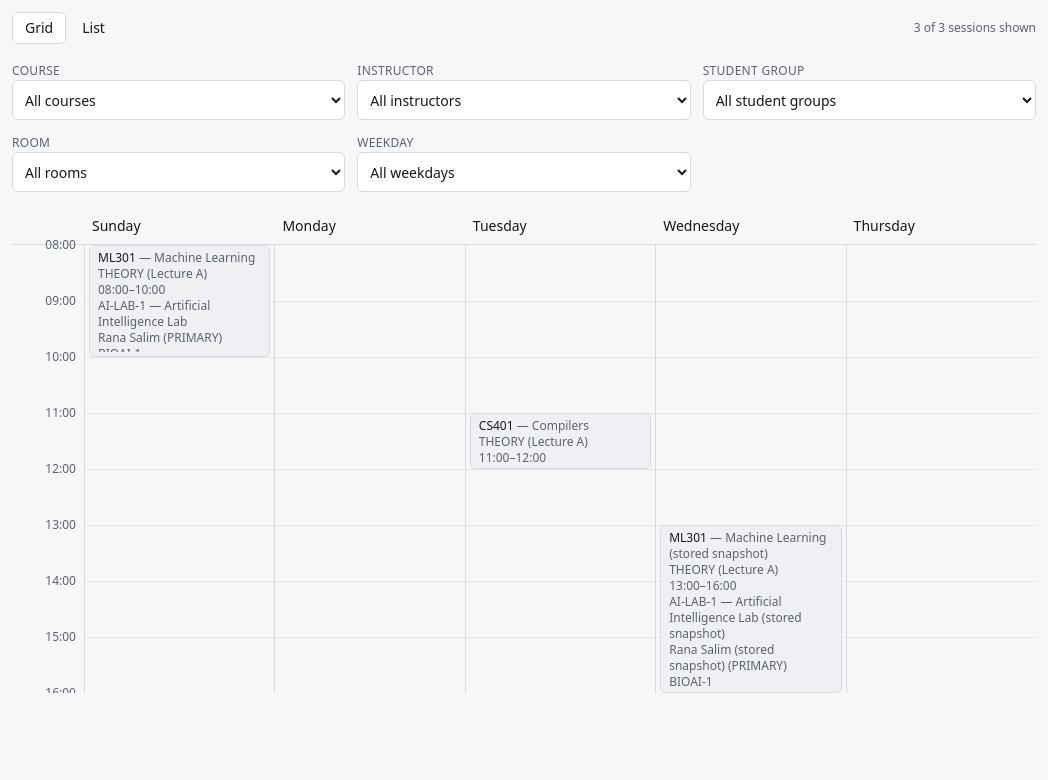
Test case: grid and list together › filters the displayed sessions without refetching anything
Step 1. Select "CS-201 — Computer Lab" in the dropdown labelled "Room" → (179, 172), box x1=12 y1=152 x2=345 y2=192
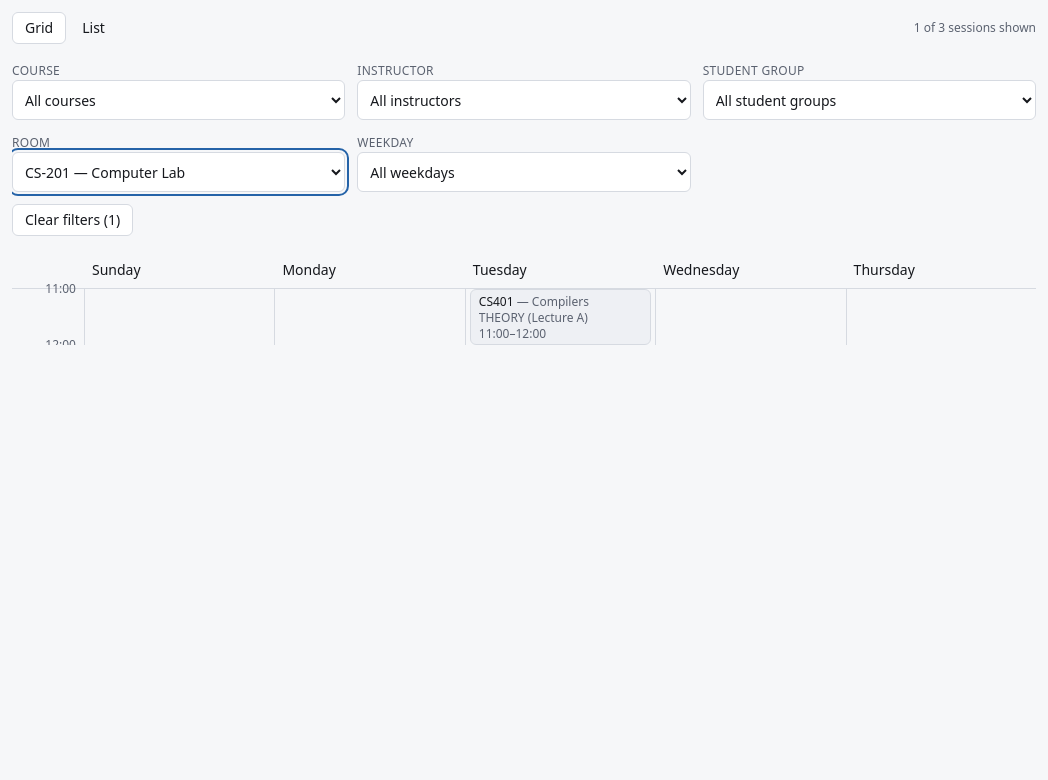
Check: the text "1 of 3 sessions shown" is shown, box x1=914 y1=20 x2=1036 y2=36
Check: the number of list items is 1, box x1=470 y1=289 x2=651 y2=345
Step 2. Click the button "Clear filters (1)" → (73, 220), box x1=12 y1=204 x2=133 y2=236
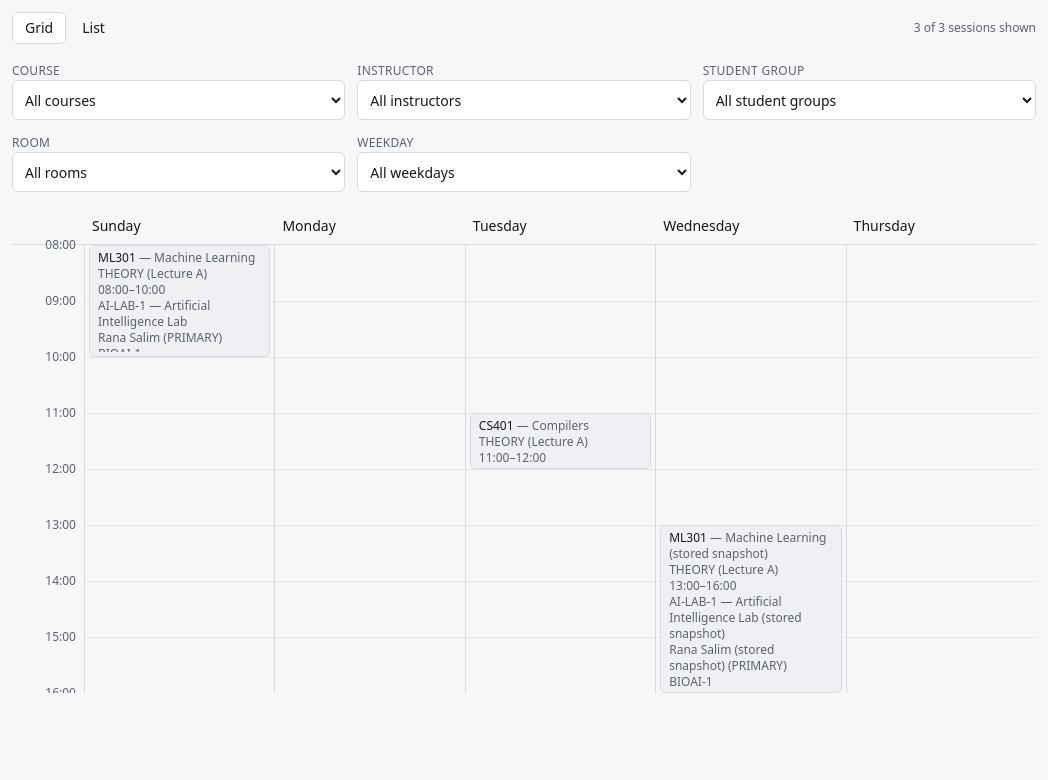
Check: the text "3 of 3 sessions shown" is shown, box x1=914 y1=20 x2=1036 y2=36
